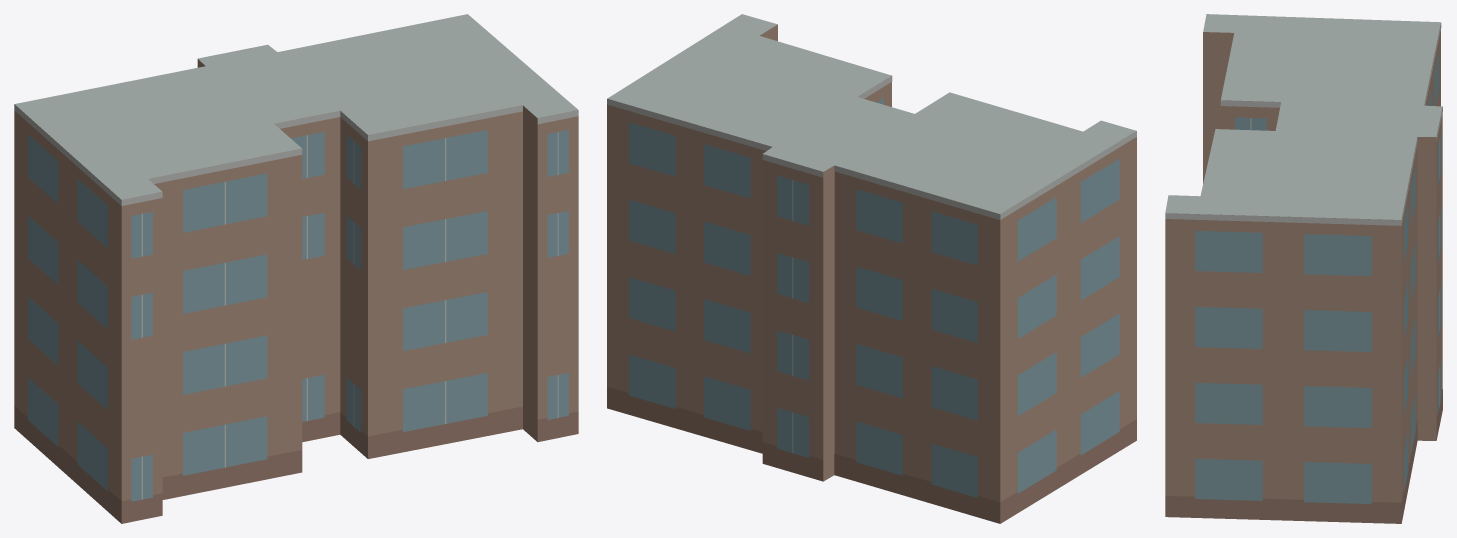
The model's file is survey-upis-32699046.glb.
3 views of the same model, side by side, from view 1: azimuth 30°, elevation 25°; view 2: azimuth 150°, elevation 25°; view 3: azimuth 270°, elevation 25° (orthographic). The views are drawn at different scales.
Parts seen in each view (by area): view 1: survey-upis-32699046.tmp; view 2: survey-upis-32699046.tmp; view 3: survey-upis-32699046.tmp.
Part boxes in pixels (box(x1,y1,x2,y2)): survey-upis-32699046.tmp: box(14, 14, 578, 523); survey-upis-32699046.tmp: box(607, 14, 1136, 523); survey-upis-32699046.tmp: box(1165, 14, 1442, 523).
Bounding box in the file's own units: 18.48 × 12.7 × 10.52.
